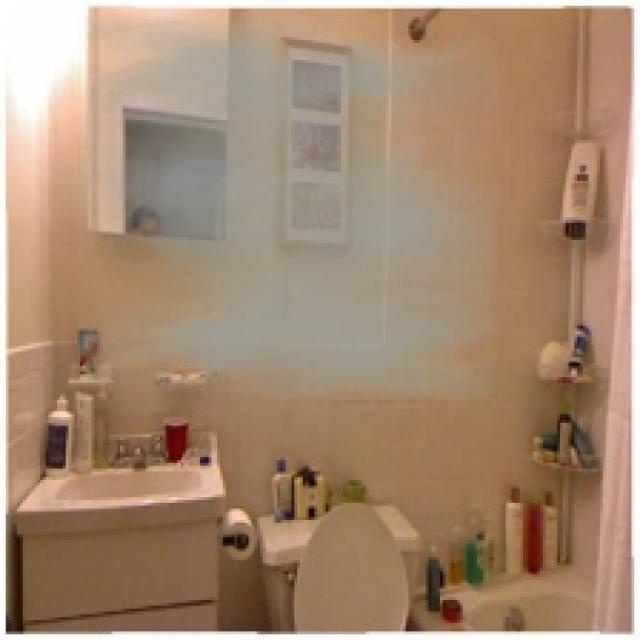Smoke: (77, 14, 497, 400)
